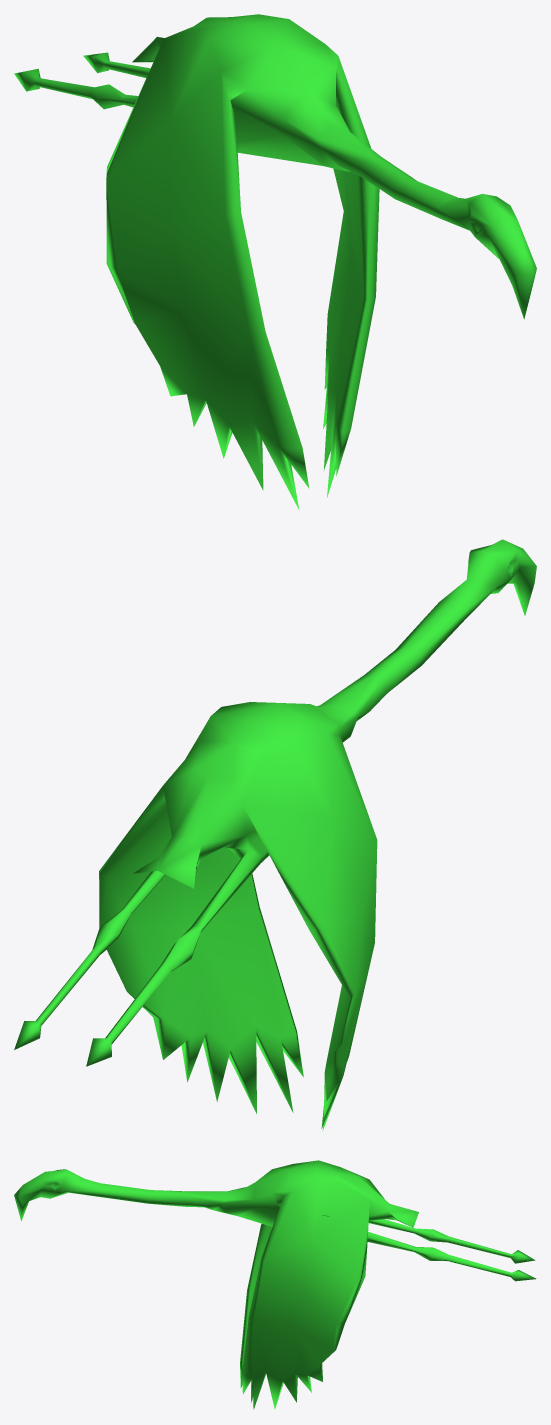
Rendered from flamingo4.glb.
The picture shows the model from 3 angles, top to bottom: view 1: azimuth 30°, elevation 25°; view 2: azimuth 150°, elevation 25°; view 3: azimuth 270°, elevation 25°; orthographic projection. The views are drawn at different scales.
Parts seen in each view (by area): view 1: pink; view 2: pink; view 3: pink.
Boxes of the visible parts, x1,y1,x2,y2 form: pink: [14, 14, 536, 509]; pink: [14, 539, 536, 1130]; pink: [14, 1160, 536, 1409].
Size of the model in its own units: 52.2 by 89.1 by 177.
